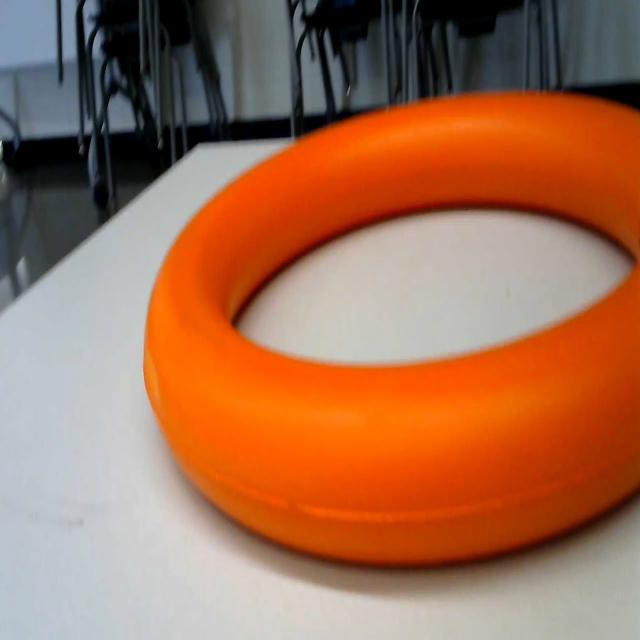note: (134, 82, 640, 608)
